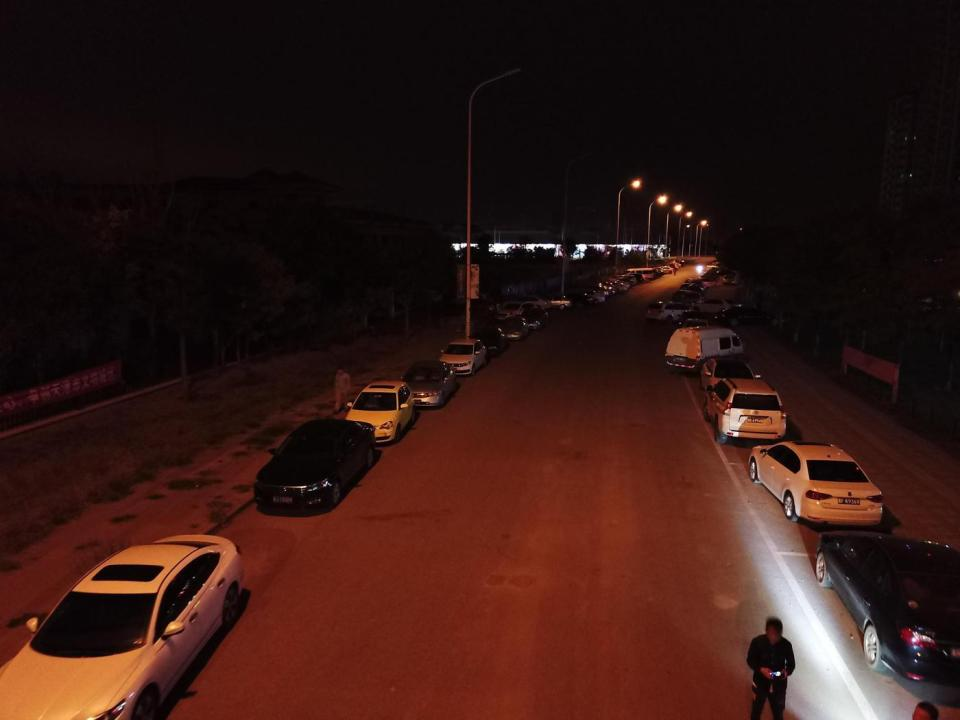car: (1, 533, 245, 720), (814, 530, 960, 686), (745, 439, 884, 530), (255, 418, 376, 507), (700, 377, 788, 447), (343, 378, 416, 443), (399, 358, 460, 406), (699, 354, 758, 396), (439, 338, 487, 379), (715, 305, 784, 331), (674, 310, 714, 342), (644, 300, 694, 324), (472, 326, 510, 356), (690, 296, 741, 316), (454, 290, 498, 312), (554, 290, 596, 311), (496, 316, 528, 342), (520, 306, 552, 332), (497, 302, 537, 322), (460, 298, 500, 318), (509, 294, 551, 312), (409, 282, 445, 303), (567, 288, 605, 305), (538, 292, 573, 310), (582, 283, 610, 298), (588, 282, 618, 296), (682, 290, 704, 306), (601, 280, 628, 293), (670, 289, 695, 303), (617, 271, 643, 284), (623, 272, 649, 285), (610, 274, 637, 286), (678, 281, 702, 294), (695, 277, 720, 289), (599, 281, 622, 294), (603, 278, 630, 289), (610, 277, 636, 288), (688, 278, 705, 294), (635, 268, 658, 279), (643, 267, 664, 278), (722, 272, 736, 288), (685, 284, 702, 297), (658, 263, 678, 274), (683, 278, 699, 291), (644, 267, 665, 276), (646, 267, 661, 278), (655, 266, 674, 274), (700, 273, 713, 284), (664, 261, 681, 269), (670, 260, 686, 268)
van: (664, 326, 744, 377), (625, 267, 654, 280)
